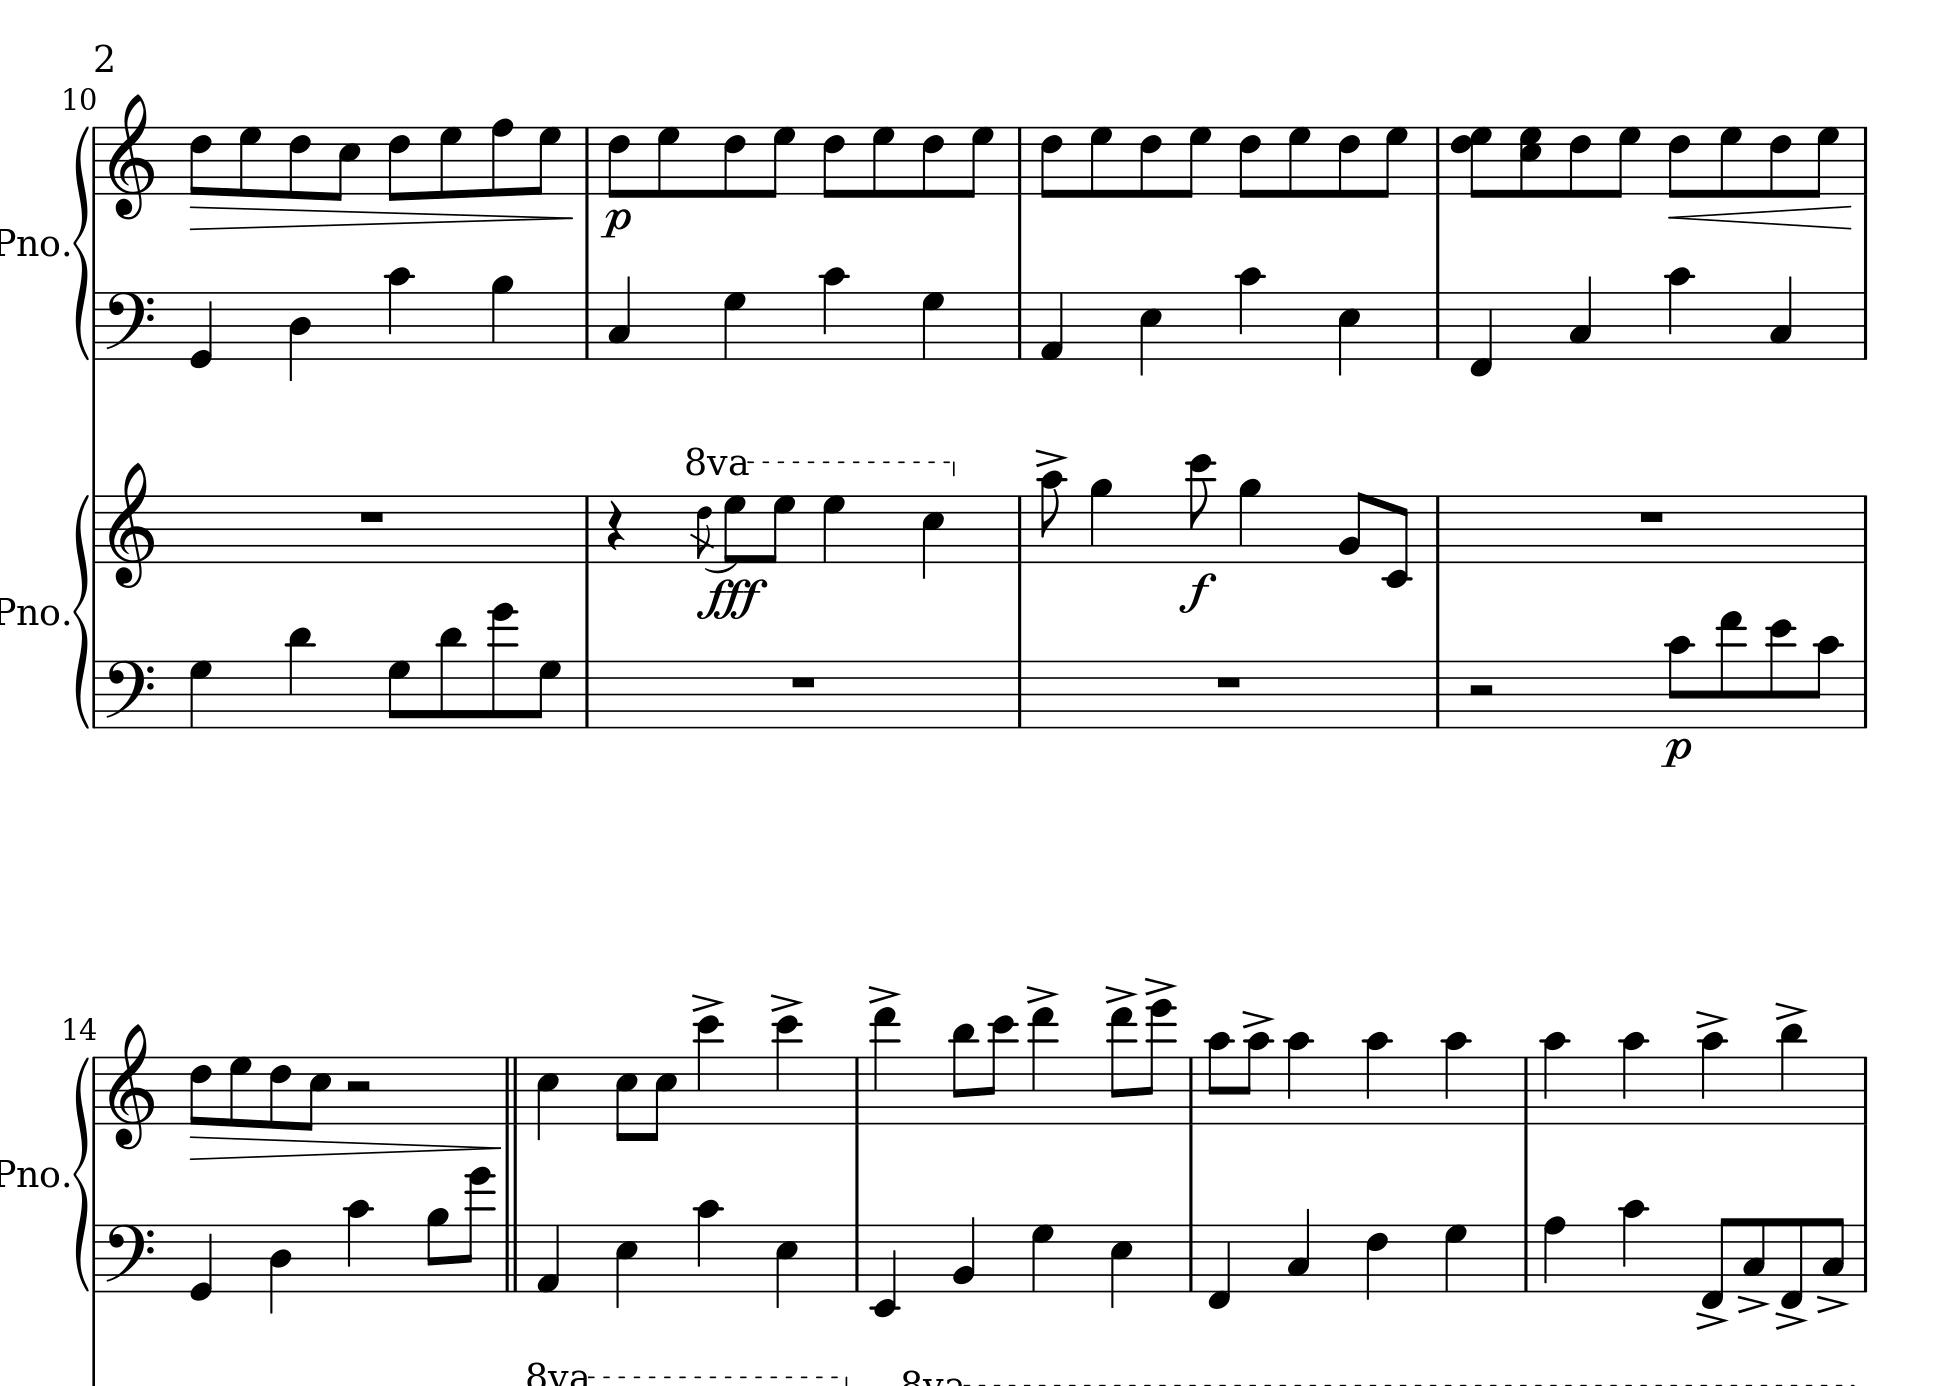0: (79, 85, 96, 112)
1: (61, 85, 76, 112), (61, 1015, 76, 1042)
2: (91, 42, 114, 73)
4: (79, 1015, 97, 1042)
4_-1: (1467, 289, 1495, 378), (1206, 1221, 1233, 1309)
4_-2: (871, 1221, 898, 1317)
4_0: (187, 289, 214, 369), (187, 1222, 214, 1302)
4_1: (1039, 289, 1066, 361), (535, 1222, 562, 1294)
4_10: (1698, 1029, 1728, 1126), (1665, 265, 1695, 361), (1284, 1030, 1314, 1126), (343, 1198, 373, 1294), (1236, 265, 1264, 363), (820, 265, 849, 361), (1363, 1030, 1392, 1126), (1620, 1030, 1648, 1126), (1620, 1197, 1647, 1294), (385, 265, 412, 361), (1443, 1030, 1470, 1126), (1542, 1030, 1569, 1126), (694, 1198, 721, 1294)
4_11: (286, 625, 313, 730), (1779, 1021, 1806, 1126)
4_12: (772, 1012, 802, 1126), (693, 1014, 723, 1125)
4_13: (1029, 1005, 1059, 1126), (871, 1005, 900, 1126)
4_2: (951, 1213, 978, 1293)
4_3: (1768, 274, 1795, 361), (1567, 274, 1593, 360), (1287, 1206, 1312, 1291), (607, 274, 631, 360)
4_4: (286, 289, 313, 382), (267, 1222, 292, 1315)
4_5: (1137, 289, 1164, 378), (919, 493, 946, 580), (774, 1221, 799, 1311), (1336, 289, 1362, 378), (613, 1221, 639, 1309), (1108, 1221, 1134, 1309), (535, 1054, 559, 1141)
4_6: (1365, 1221, 1390, 1302)
4_7: (721, 289, 748, 360), (919, 289, 946, 360), (820, 493, 847, 564), (187, 658, 214, 729), (1029, 1222, 1056, 1293), (1443, 1222, 1470, 1293)
4_8: (1542, 1213, 1569, 1294)
4_9: (1236, 475, 1263, 565), (1089, 475, 1114, 565), (489, 274, 514, 361)
8_-1: (1698, 1213, 1734, 1309), (1779, 1215, 1806, 1309)
8_-2: (1383, 493, 1413, 589)
8_10: (1809, 634, 1842, 730), (1240, 1030, 1272, 1125), (1038, 469, 1068, 565), (1665, 634, 1695, 729), (1206, 1030, 1233, 1126)
8_11: (436, 625, 465, 730), (951, 1020, 976, 1125)
8_12: (984, 1012, 1017, 1125), (1767, 616, 1797, 732), (1186, 451, 1216, 564)
8_13: (1716, 609, 1746, 730), (1107, 1005, 1135, 1125)
8_14: (457, 1165, 495, 1293), (1143, 997, 1176, 1125), (487, 601, 519, 729)
8_2: (1338, 489, 1368, 564)
8_3: (1741, 1215, 1768, 1293), (1821, 1215, 1846, 1293)
8_5: (648, 1054, 676, 1143), (330, 124, 361, 202), (301, 1054, 331, 1132), (613, 1054, 639, 1143)
8_6: (820, 124, 847, 199), (919, 124, 946, 199), (1038, 124, 1065, 199), (1767, 124, 1794, 199), (286, 124, 312, 202), (387, 124, 412, 202), (604, 124, 631, 198), (187, 1053, 213, 1129), (721, 124, 747, 199), (1138, 124, 1164, 199), (1237, 124, 1263, 199), (1336, 124, 1362, 199), (1567, 124, 1593, 199), (1666, 124, 1692, 199), (187, 124, 213, 198), (268, 1054, 292, 1132)
8_7: (763, 124, 796, 198), (961, 124, 994, 198), (1179, 124, 1212, 198), (1608, 124, 1641, 198), (1807, 124, 1840, 198), (1377, 124, 1408, 198), (763, 493, 795, 565), (529, 124, 561, 195), (529, 657, 561, 727), (436, 124, 463, 199), (226, 1054, 253, 1128), (237, 124, 262, 199), (1287, 124, 1312, 199), (1717, 124, 1743, 199), (655, 124, 681, 198), (870, 124, 895, 198), (721, 493, 747, 565), (385, 658, 411, 729), (1089, 124, 1113, 198)
8_8: (489, 117, 514, 199)
8_9: (424, 1204, 450, 1294)
Accent_above: (1815, 1291, 1849, 1314), (865, 982, 901, 1003), (1026, 982, 1060, 1003), (769, 991, 804, 1012), (1695, 1309, 1729, 1330), (1143, 975, 1179, 994), (1035, 445, 1068, 466), (1104, 982, 1137, 1003), (691, 991, 724, 1012), (1774, 1000, 1809, 1020), (1240, 1008, 1275, 1027), (1695, 1008, 1728, 1027), (1735, 1293, 1768, 1312), (1774, 1311, 1807, 1330)
Brace: (72, 490, 91, 727), (72, 1054, 91, 1291), (72, 124, 91, 360)
Crescendo_hairpin: (1669, 204, 1851, 229)
Diminuendo_hairpin: (190, 205, 574, 232), (190, 1134, 502, 1159)
Double_barline: (499, 1056, 523, 1123), (499, 1224, 523, 1291)
Fclef: (103, 1221, 154, 1294), (105, 289, 156, 361), (103, 658, 154, 730)
Gclef: (106, 91, 156, 220), (106, 1021, 156, 1150), (106, 460, 154, 588)
Pno: (1, 1155, 61, 1192), (1, 223, 60, 259), (1, 594, 58, 628)
Rests1: (355, 507, 388, 525), (1636, 507, 1668, 525), (787, 672, 819, 690), (1213, 672, 1245, 690)
Rests2: (343, 1075, 375, 1096), (1465, 681, 1497, 699)
Rests4: (604, 498, 627, 553)
Single_barline: (1516, 1056, 1537, 1123), (1855, 1222, 1875, 1291), (1855, 1056, 1875, 1123), (577, 661, 597, 727), (1011, 658, 1029, 727), (1429, 658, 1447, 727), (1428, 495, 1446, 562), (1182, 1056, 1200, 1123), (577, 292, 595, 358), (577, 495, 595, 561), (1011, 496, 1029, 562), (847, 1057, 865, 1123), (1518, 1224, 1536, 1290), (1857, 126, 1873, 193), (579, 127, 595, 195), (1012, 291, 1029, 358), (1857, 495, 1873, 562), (1857, 660, 1873, 727), (1012, 127, 1029, 193), (1431, 127, 1447, 193), (849, 1224, 865, 1290), (1183, 1224, 1200, 1290), (1431, 291, 1446, 358), (1857, 292, 1872, 358), (88, 291, 102, 358), (88, 495, 102, 562), (88, 127, 102, 193), (88, 660, 102, 726), (88, 1224, 100, 1291), (88, 1057, 100, 1123)
Slur: (703, 562, 736, 574)
f: (1177, 571, 1218, 613)
fff: (694, 574, 768, 619)
p: (1659, 736, 1695, 772), (600, 205, 631, 240)
